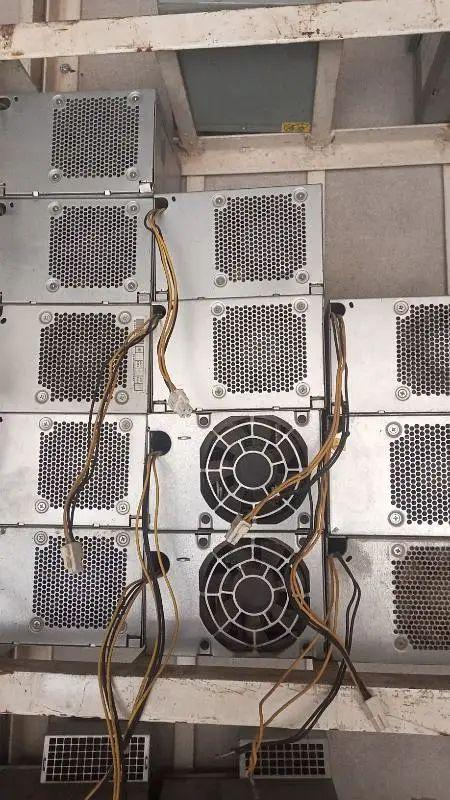electronic: (145, 530, 327, 674), (151, 415, 323, 542), (0, 83, 183, 196), (150, 186, 323, 305), (157, 296, 325, 414), (0, 525, 144, 652), (0, 414, 148, 532), (0, 195, 155, 304), (331, 534, 450, 673), (0, 303, 148, 411), (320, 416, 447, 538), (325, 296, 448, 420)
